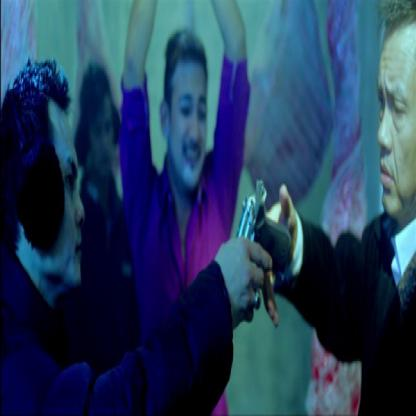Guns: (228, 170, 294, 335)
